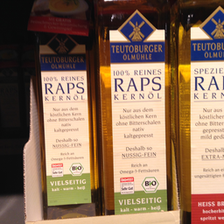oil: (97, 2, 176, 214), (36, 6, 100, 219), (172, 1, 224, 221)
